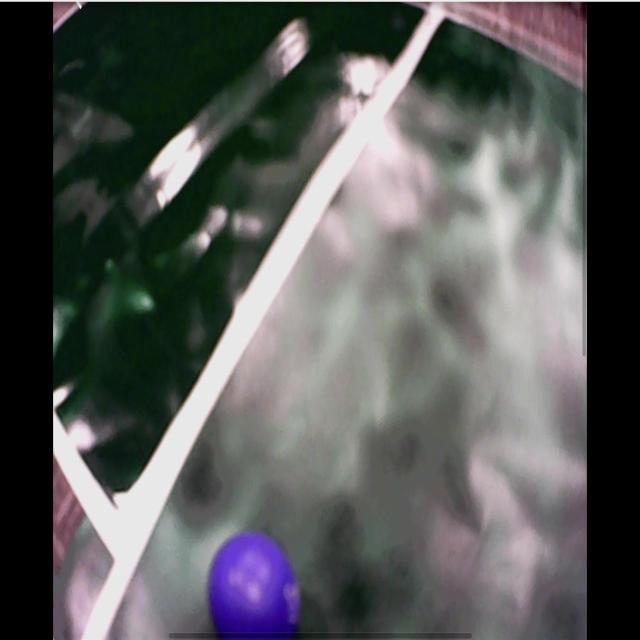ball: (209, 533, 297, 635)
